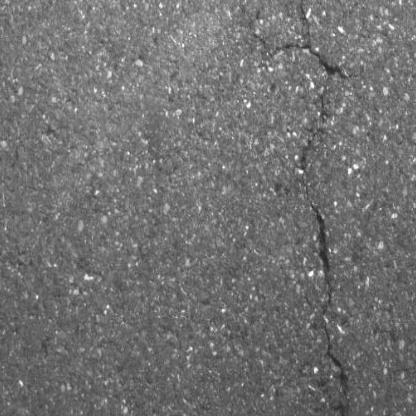Cracks: (297, 84, 352, 411), (251, 0, 360, 83)
